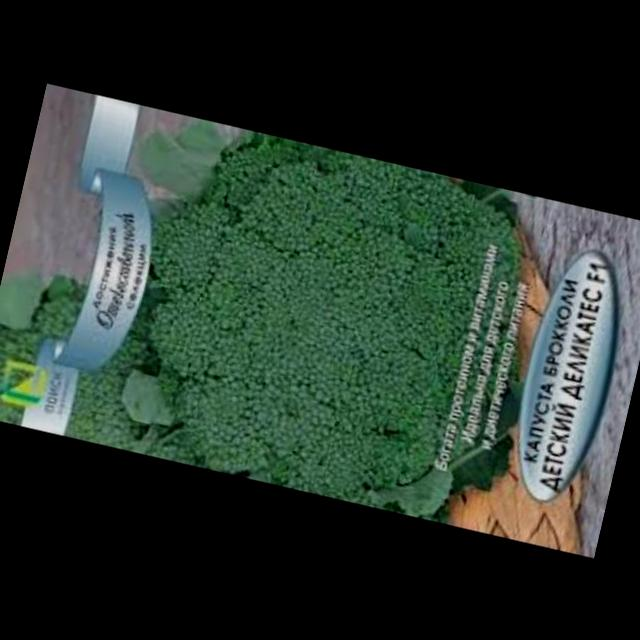Broccoli: (83, 109, 546, 530)
